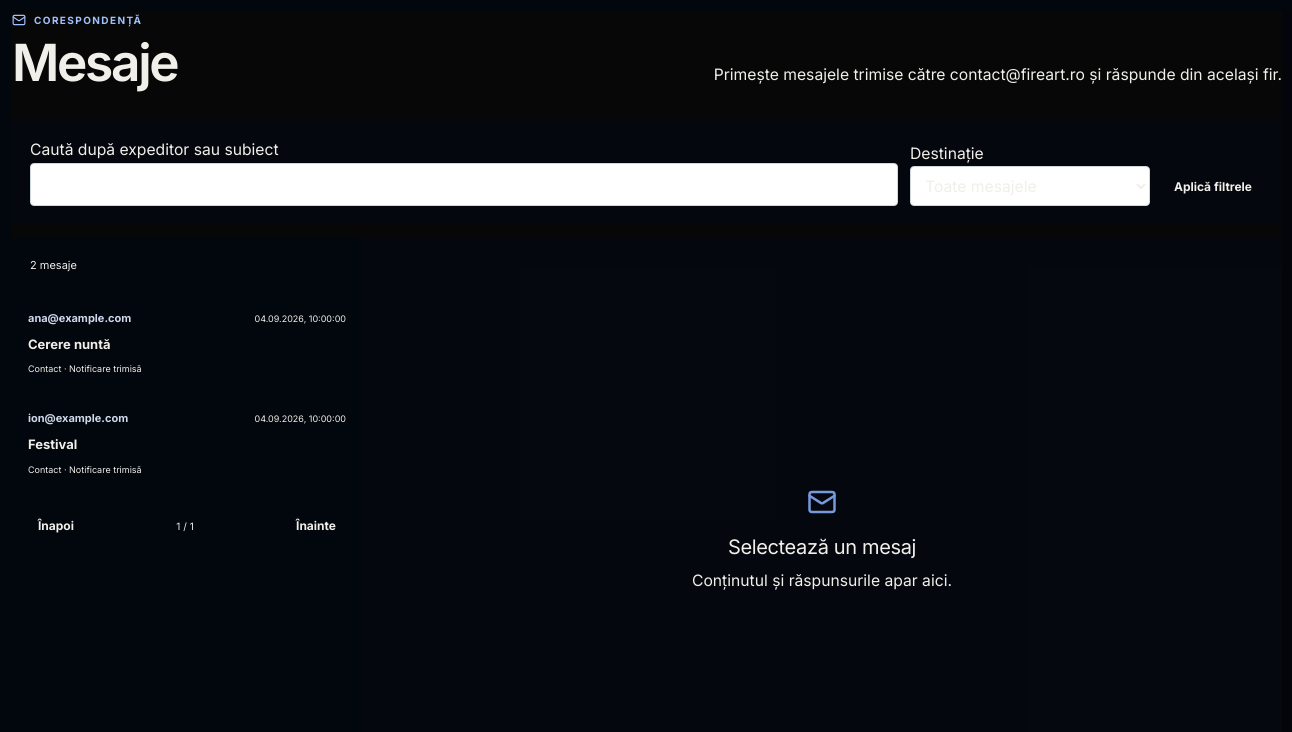
Test: applying filters clears the previously loaded private detail
Click the button with aria-label "Deschide mesajul Cerere nuntă" at [80, 318], box [12, 292, 362, 393]
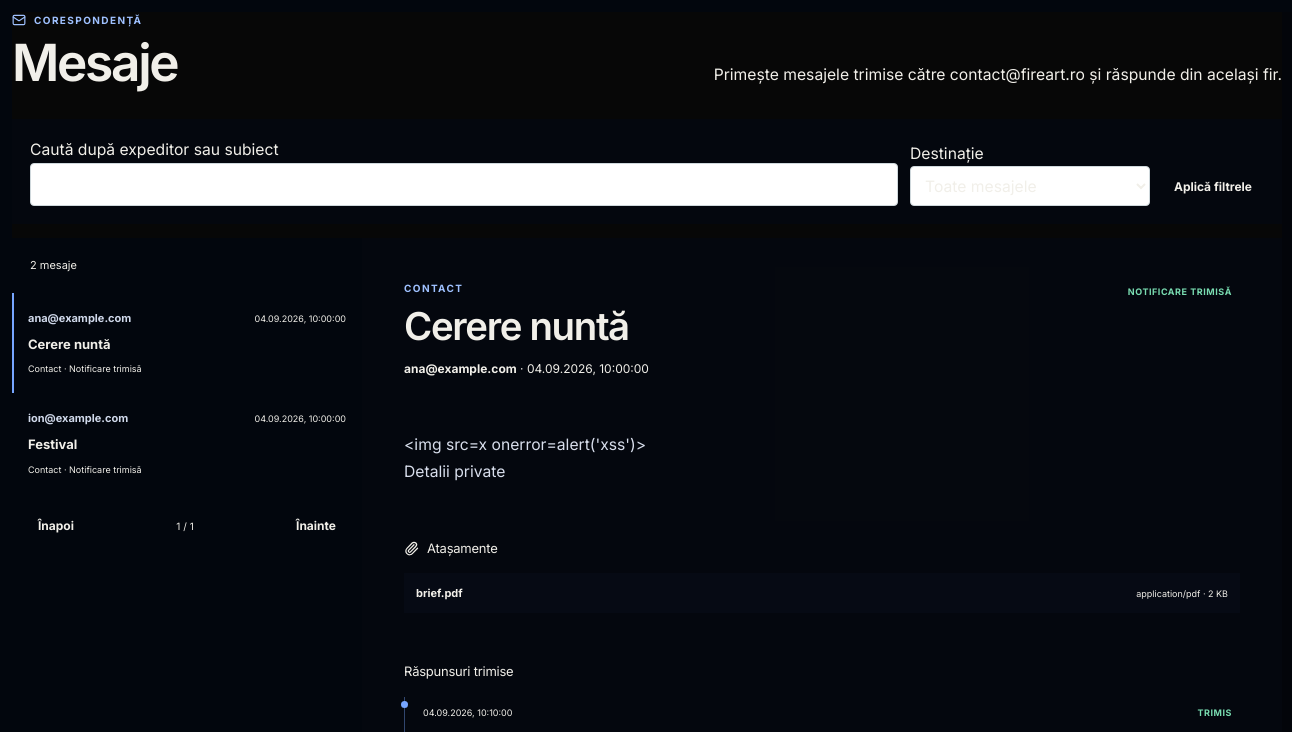
Expected: the text "Detalii private" is shown, [404, 435, 646, 481]
Submit the form named "Filtrează mesajele", box [12, 119, 1282, 224]
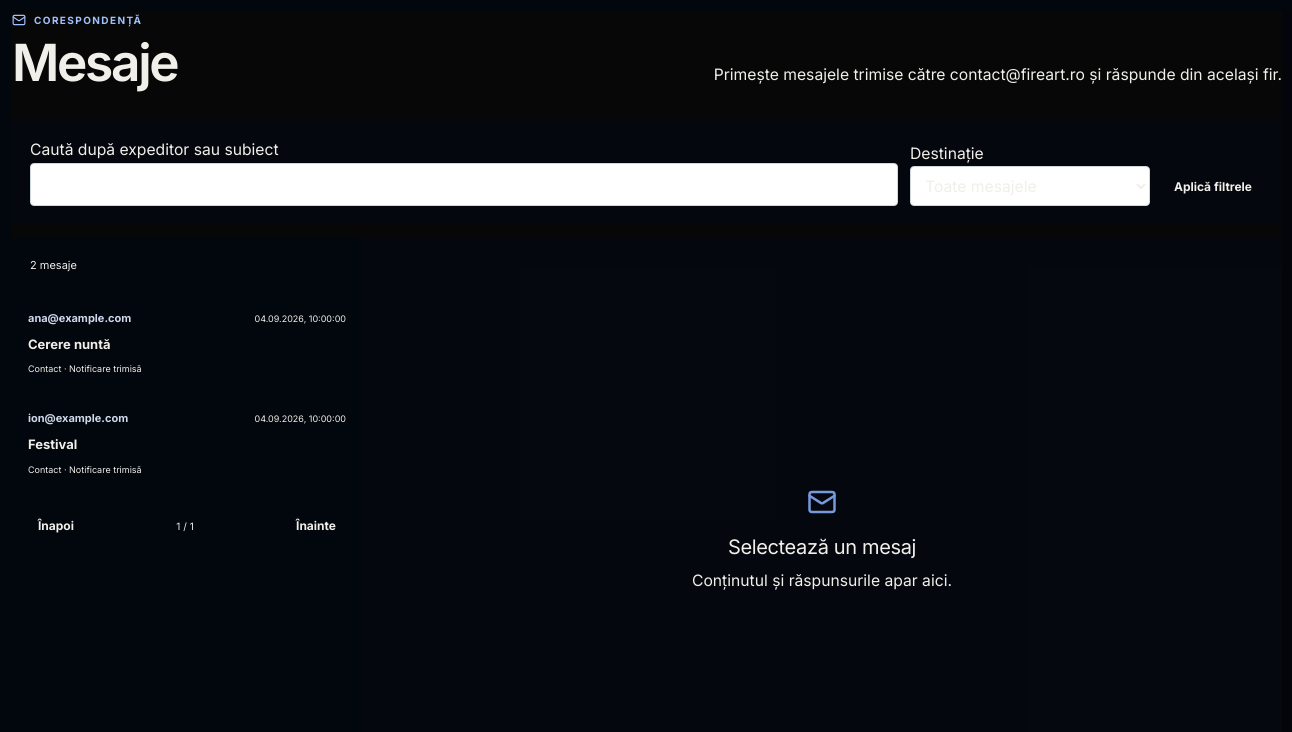
Expected: the text "Detalii private" is gone
